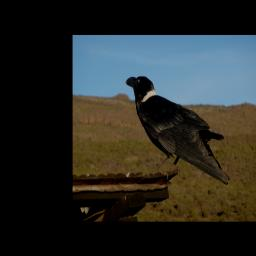Crow: (124, 72, 230, 185)
